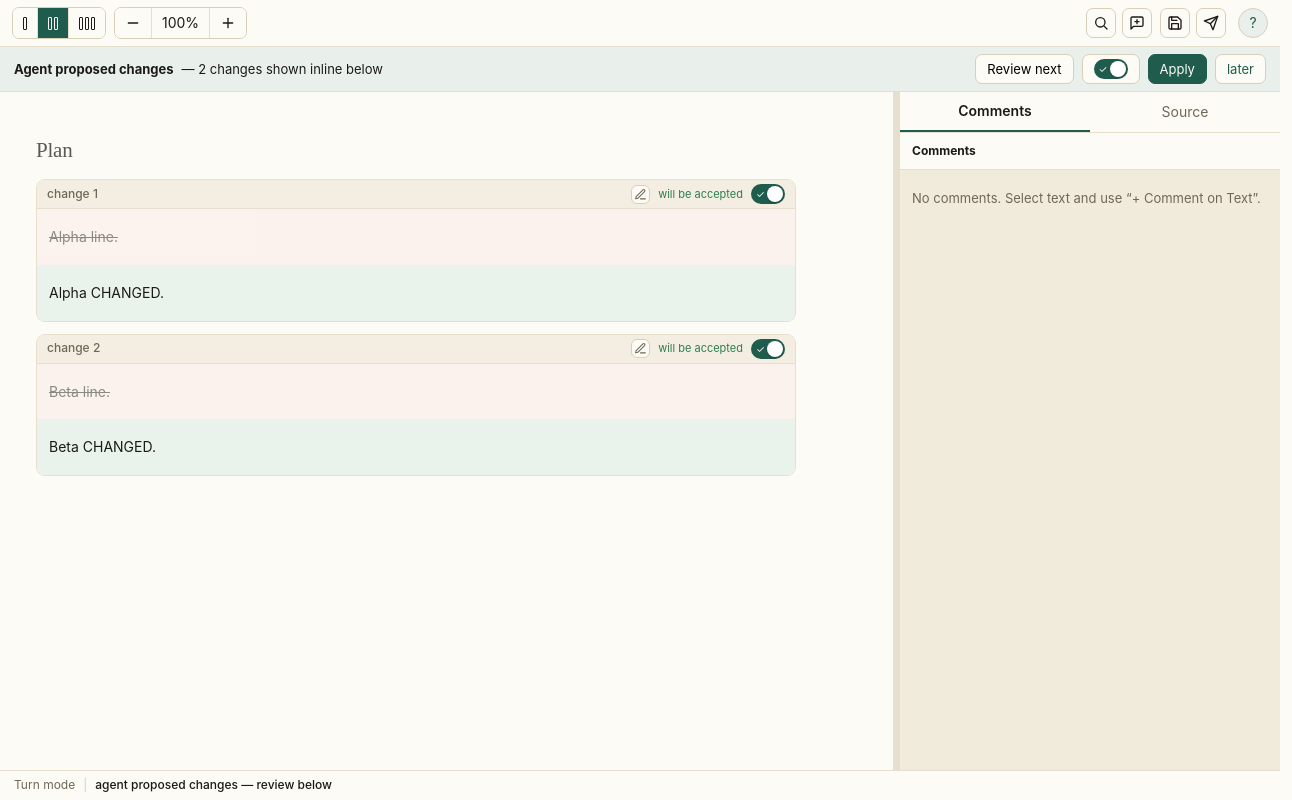
App review decision matrix (memory-backed) › the pencil edits a hunk's proposed text and Apply uses the EDITED text
Click the button named "edit change 1". click: click(641, 194)
box: x1=631 y1=185 x2=650 y2=204
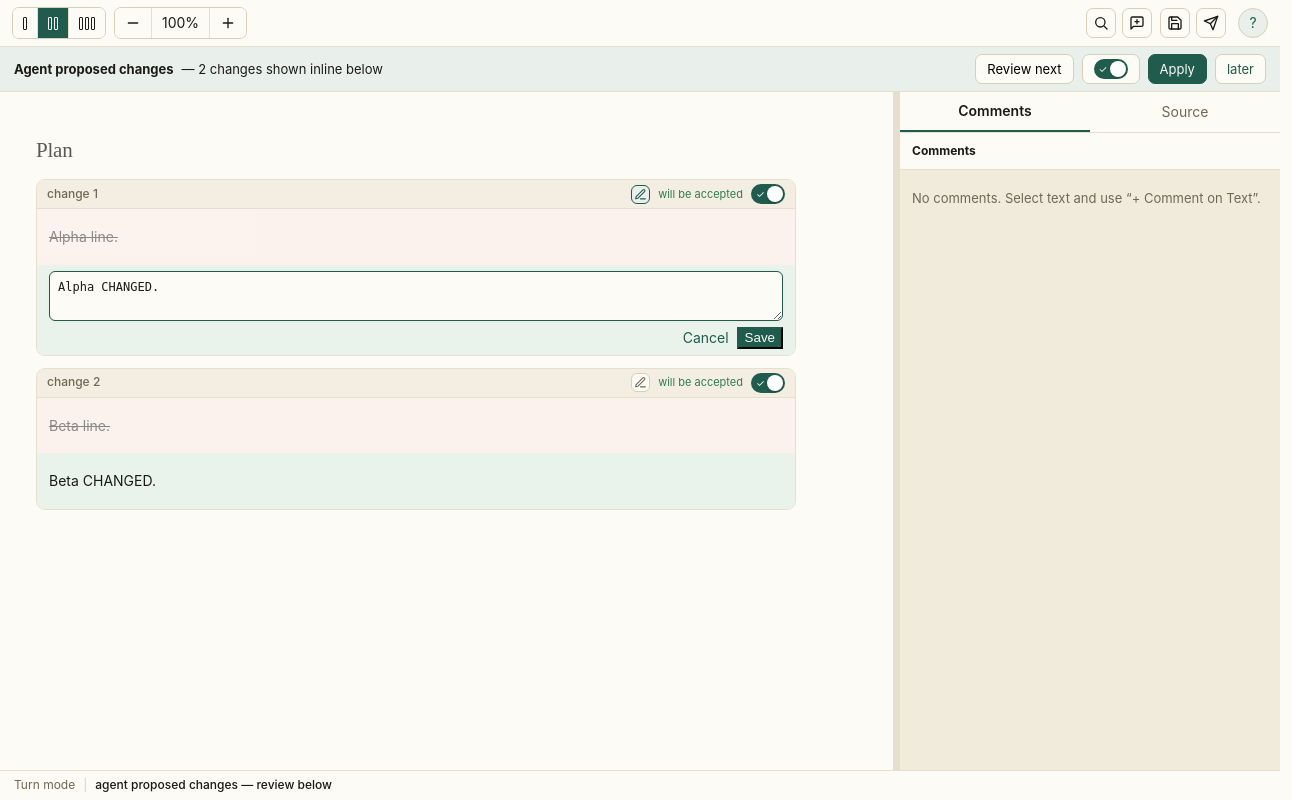
Replace the text in the text box named "edit change 1" with "Alpha EDITED.". click: (416, 296)
box: x1=49 y1=271 x2=783 y2=321
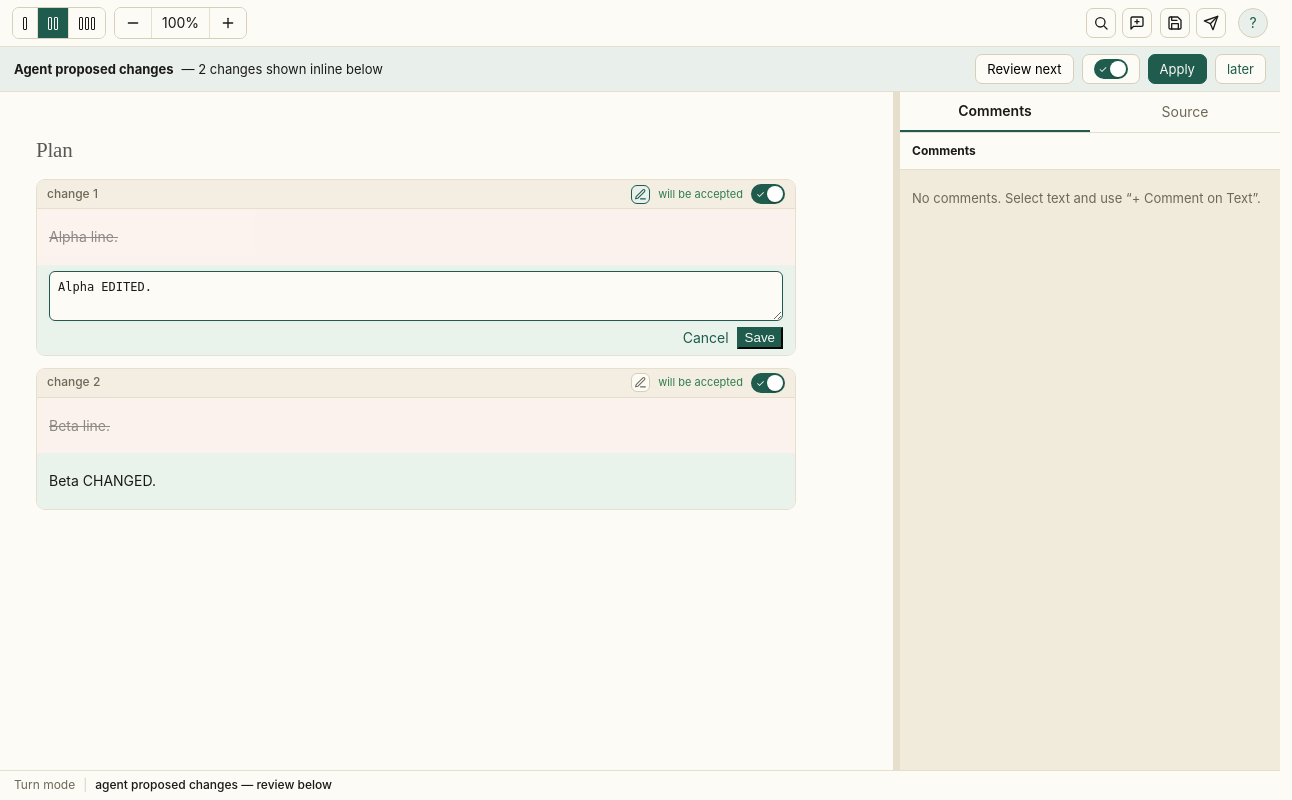
Click the button with aria-label "save edit". click: click(760, 338)
box: x1=737 y1=327 x2=783 y2=348
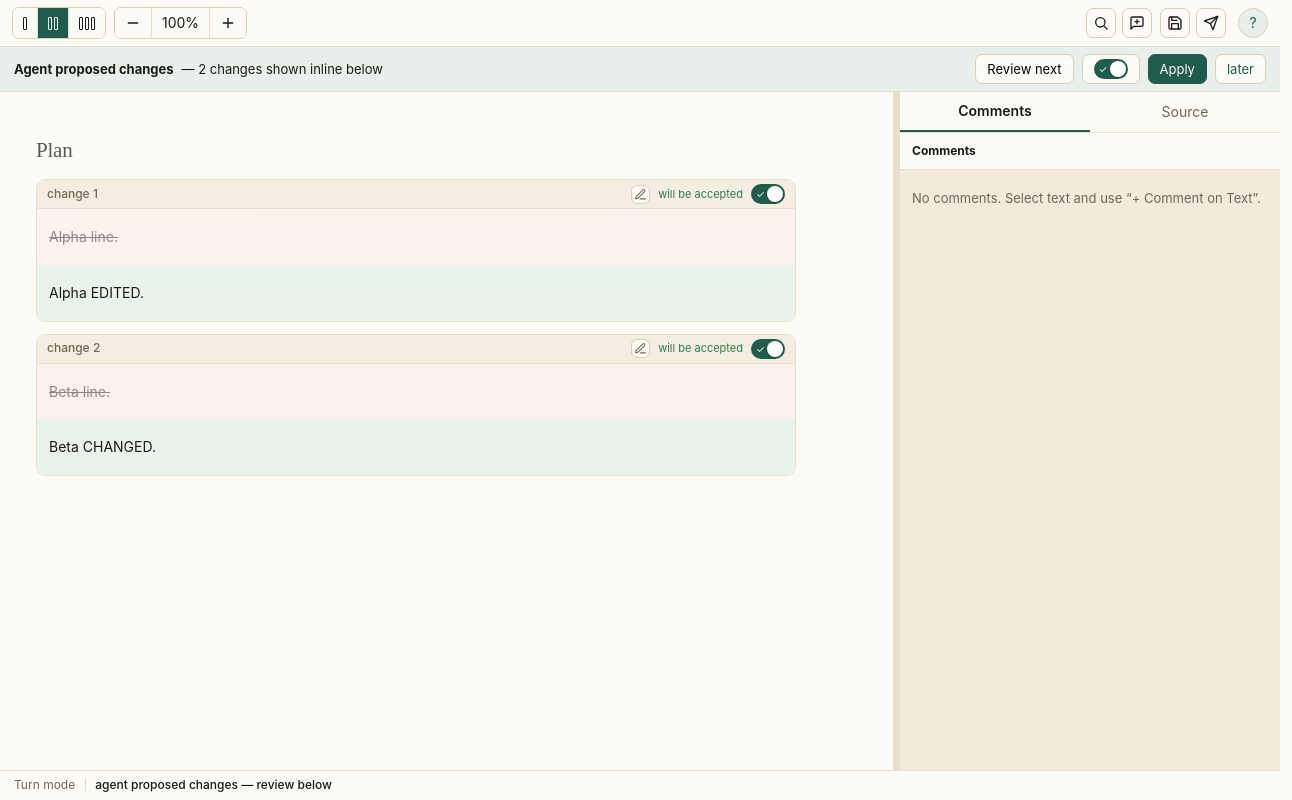
Expected: the text "Alpha EDITED." is shown, x1=49 y1=284 x2=144 y2=301
Click the button "Apply". click: click(1177, 69)
box: x1=1148 y1=54 x2=1207 y2=84
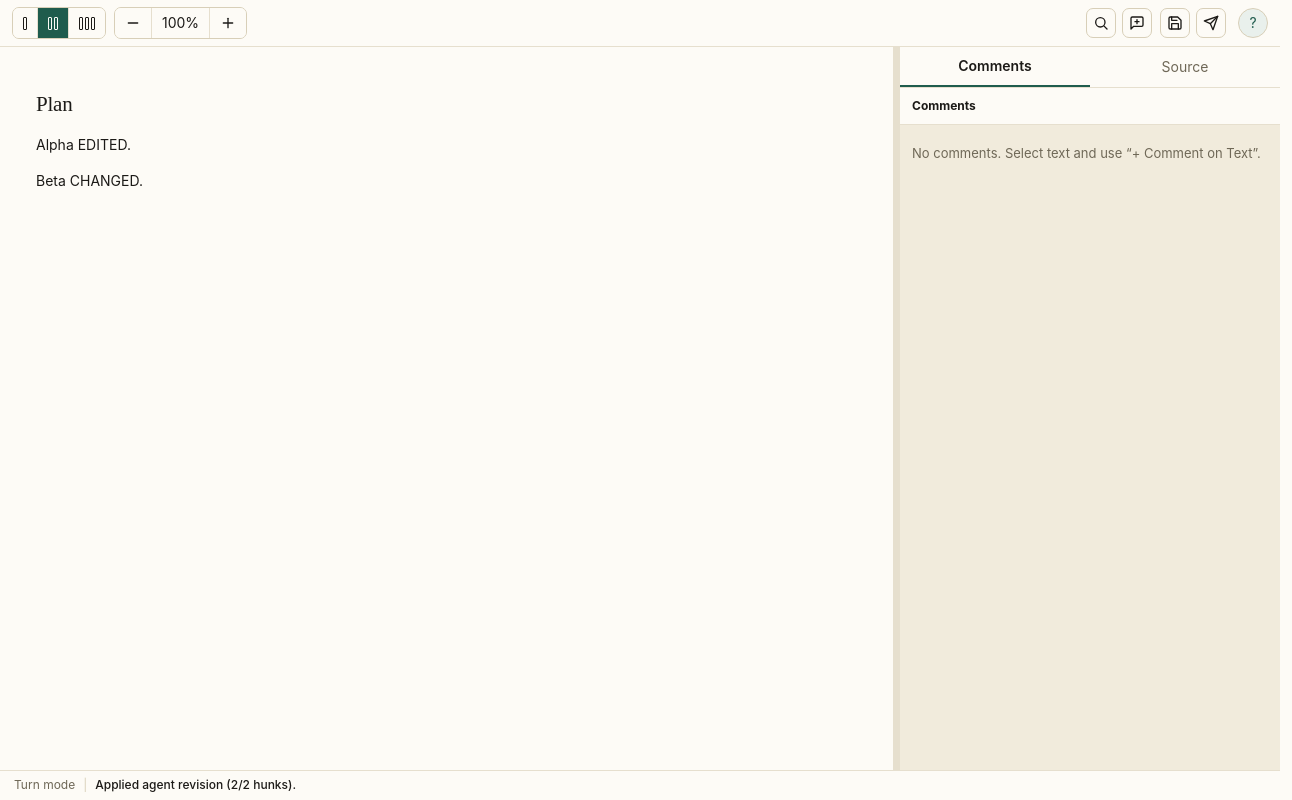
Expected: the text "Alpha CHANGED." is not shown
Expected: the text "Alpha EDITED." is shown, x1=36 y1=136 x2=131 y2=153
Expected: the text "Agent proposed changes" is gone
